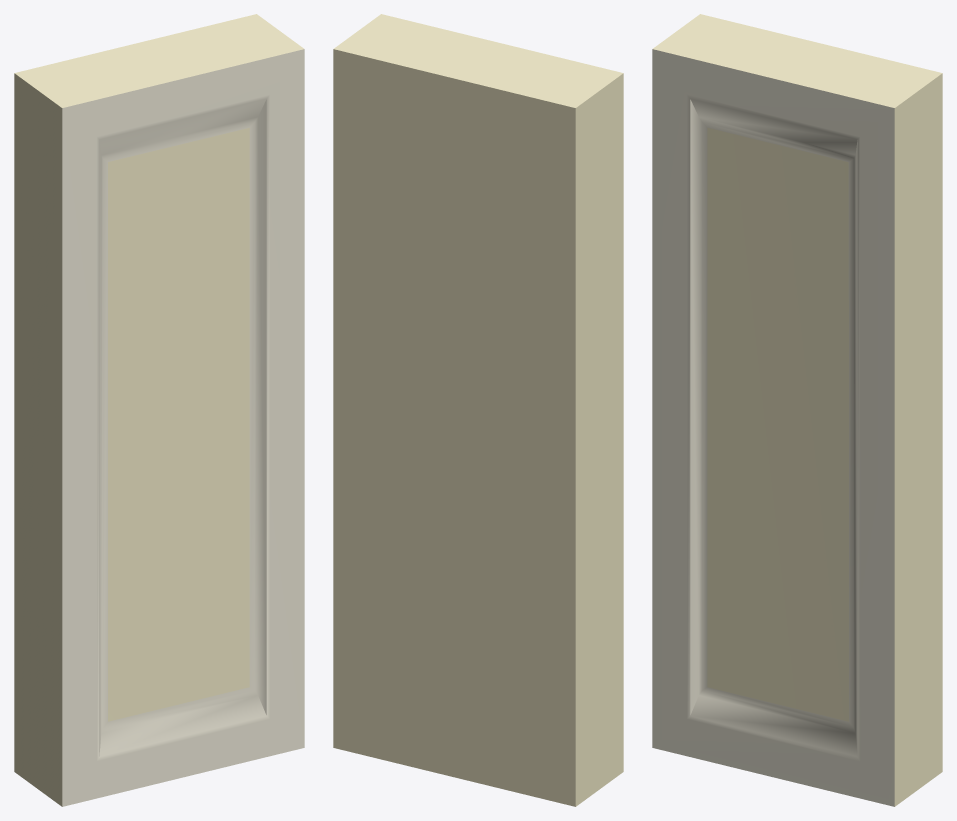
Rendered from accentedwall.fbx.
3 renders of one model, left to right at view 1: azimuth 30°, elevation 25°; view 2: azimuth 150°, elevation 25°; view 3: azimuth 330°, elevation 25°, orthographic.
Visible parts, largest first — view 1: polySurface3; view 2: polySurface3; view 3: polySurface3.
Part boxes in pixels (<box>): polySurface3: <box>14,14,304,806</box>; polySurface3: <box>333,14,623,806</box>; polySurface3: <box>652,14,942,806</box>.
Bounding box in the file's own units: 2.34 × 6.44 × 0.8001.
